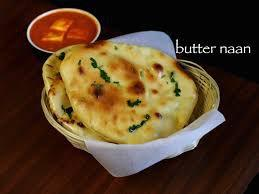Naan: (27, 53, 233, 144)
